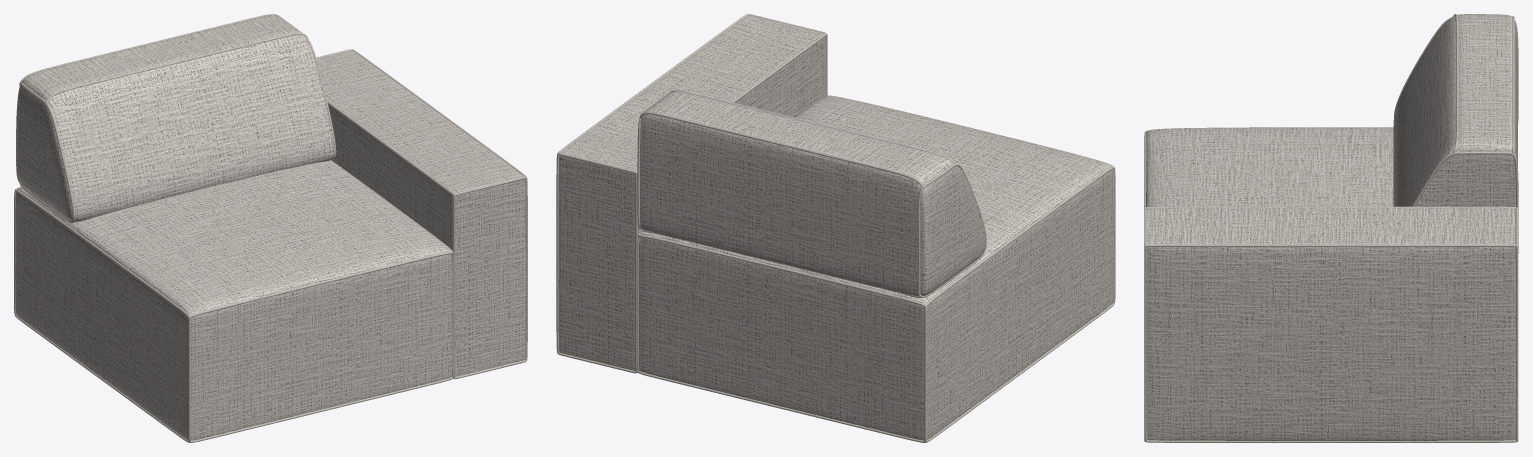
File: left_1_5_seater_arm_120_alpine_gray.glb
3 renders of one model, left to right at view 1: azimuth 30°, elevation 25°; view 2: azimuth 150°, elevation 25°; view 3: azimuth 270°, elevation 25°, orthographic. The views are drawn at different scales.
Visible parts, largest first — view 1: Box093, Box097, Box088, Shape043, Shape048, Shape039; view 2: Box093, Box097, Box088, Shape043, Shape039, Shape048; view 3: Box088, Box097, Box093, Shape048, Shape039.
Part boxes in pixels (x1,y1,x2,y2): Box093: [15, 160, 452, 440]; Box097: [16, 14, 334, 222]; Box088: [316, 50, 525, 376]; Shape043: [14, 187, 453, 442]; Shape048: [316, 49, 527, 379]; Shape039: [19, 14, 336, 223]; Box093: [639, 95, 1113, 440]; Box097: [640, 91, 985, 296]; Box088: [558, 15, 825, 370]; Shape043: [637, 164, 1115, 442]; Shape039: [637, 90, 986, 297]; Shape048: [556, 14, 827, 373]; Box088: [1146, 207, 1515, 440]; Box097: [1393, 14, 1517, 206]; Box093: [1146, 127, 1393, 206]; Shape048: [1144, 206, 1518, 442]; Shape039: [1394, 14, 1518, 253].
Bounding box in the file's own units: 1.2 × 0.8369 × 1.07.
1 material, 1 textured.
